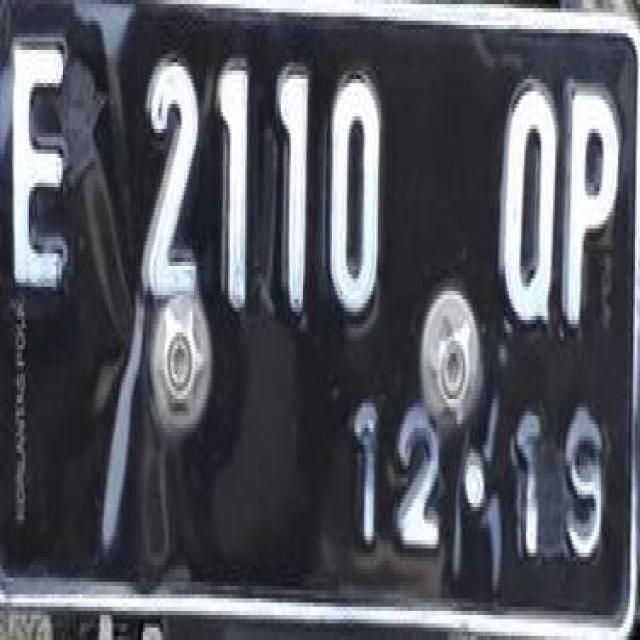0: (324, 52, 387, 334)
1: (212, 44, 263, 326), (270, 50, 316, 336)
2: (140, 39, 207, 310)
E: (5, 20, 80, 308)
P: (559, 52, 624, 343)
Q: (493, 60, 561, 347)
